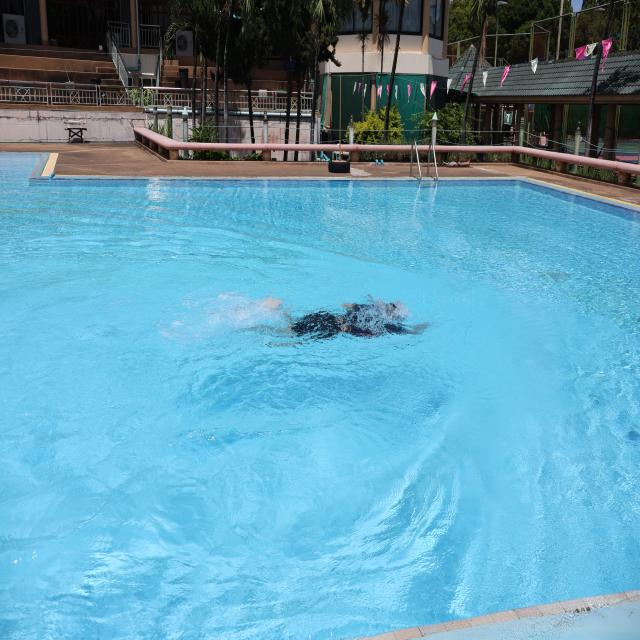Swimming: (227, 292, 442, 342)
